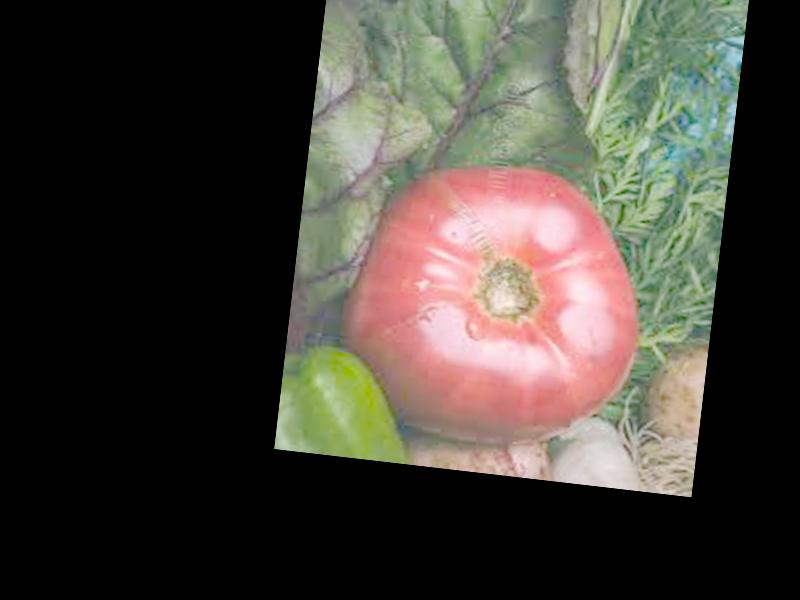Tomato: (329, 149, 655, 463)
